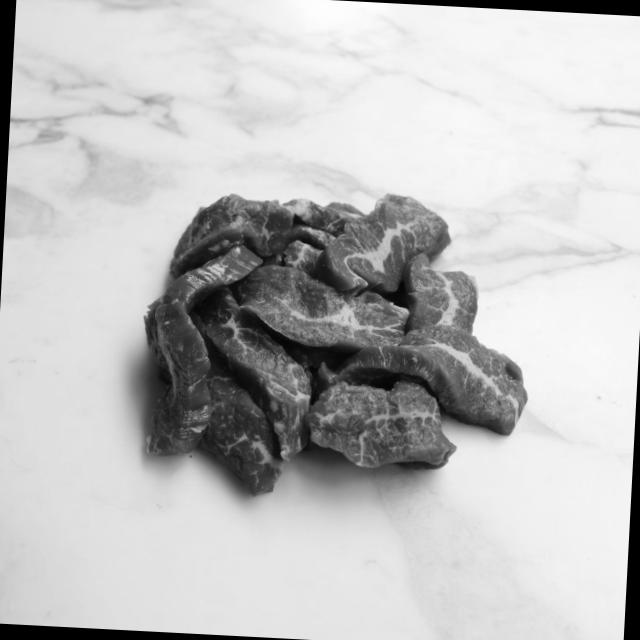meat pieces: (134, 174, 543, 512)
